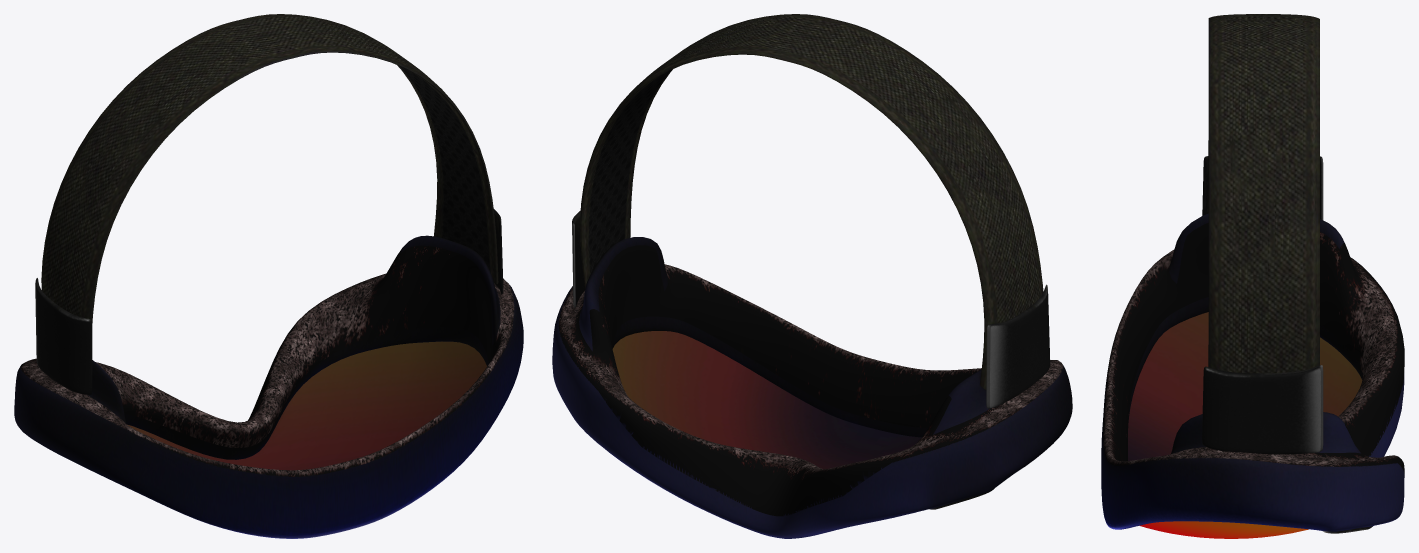
File: 12313_Goggles_v1_L3.obj
3 views of the same model, side by side, from view 1: azimuth 30°, elevation 25°; view 2: azimuth 150°, elevation 25°; view 3: azimuth 270°, elevation 25° (orthographic). The views are drawn at different scales.
Visible parts, largest first — view 1: Goggles, Plastic; view 2: Goggles, Plastic; view 3: Goggles, Plastic.
Boxes of the visible parts, x1=… form: Goggles: x1=14, y1=14, x2=523, y2=538; Plastic: x1=127, y1=341, x2=486, y2=470; Goggles: x1=552, y1=14, x2=1072, y2=538; Plastic: x1=612, y1=331, x2=921, y2=469; Goggles: x1=1101, y1=14, x2=1404, y2=533; Plastic: x1=1128, y1=312, x2=1362, y2=538.
Size of the model in its own units: 21.74 by 20.2 by 11.42.
Materials: 2 (2 with a texture image).
